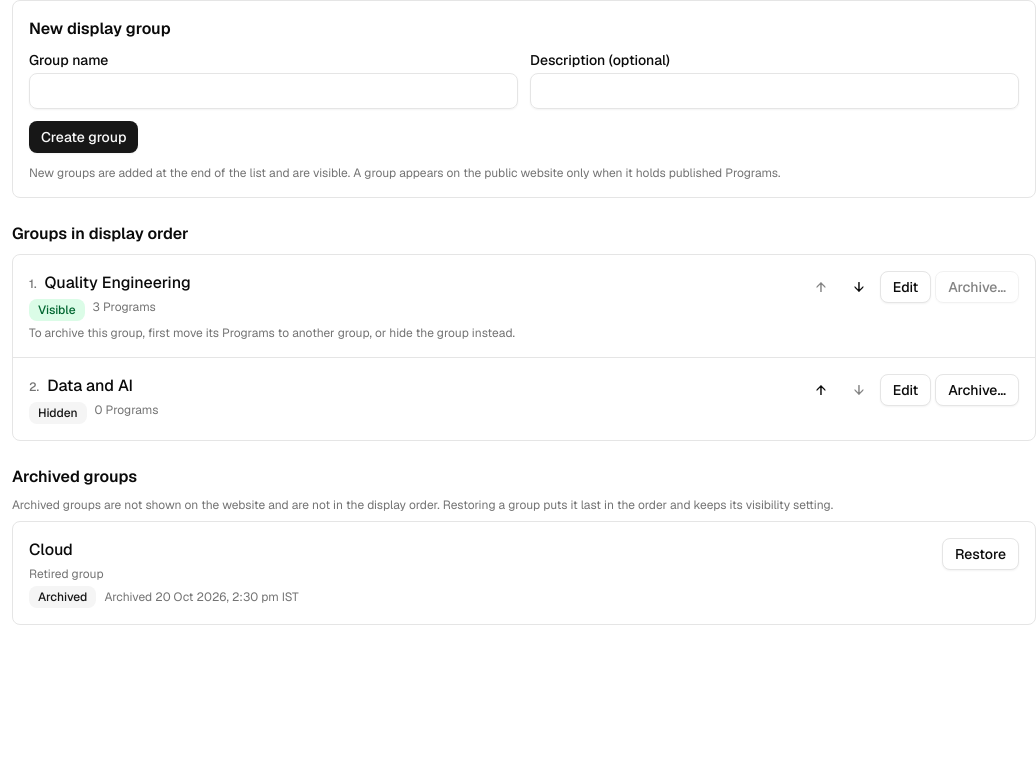
Test case: DisplayGroupsManager archive and restore › shows a refused restore (name taken meanwhile) as an alert
Click the button with aria-label "Restore Cloud": (980, 554) left=942, top=538, right=1019, bottom=570
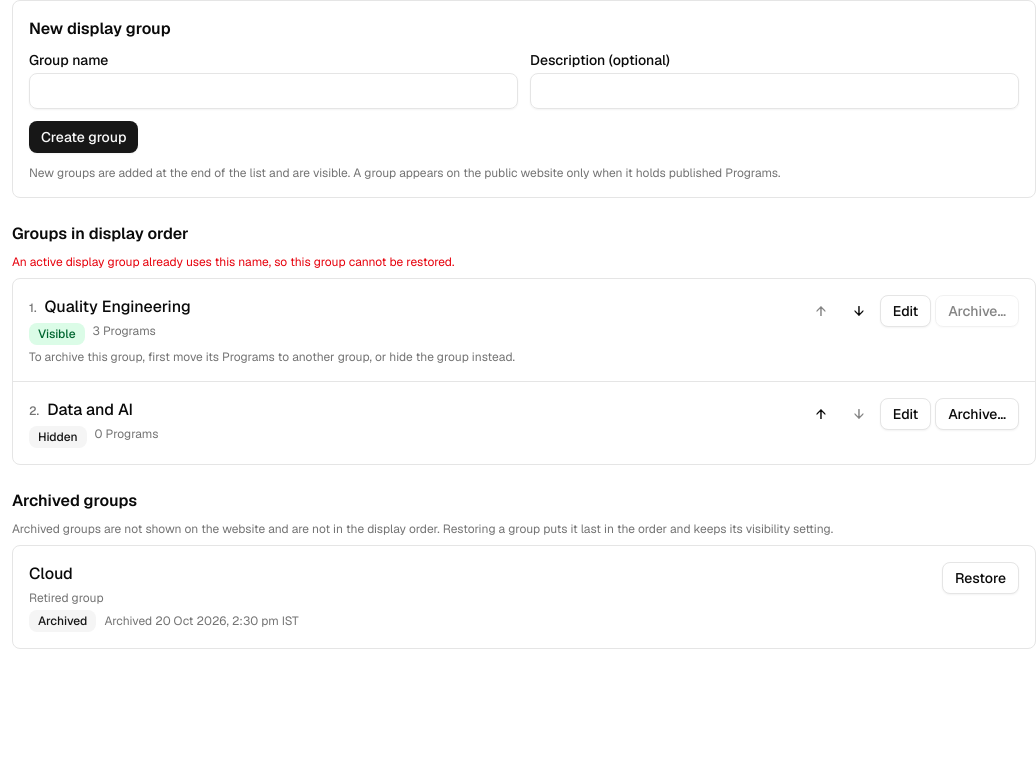
Now the message shows "already uses this name, so this group cannot be restored", box left=12, top=254, right=454, bottom=270
